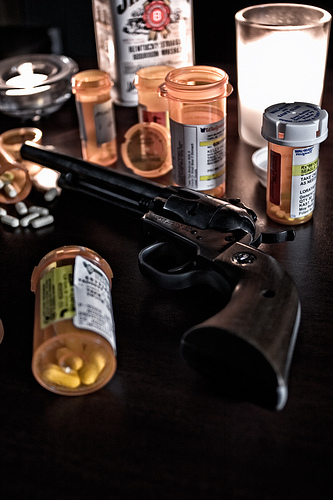pill bottle: (30, 243, 119, 398), (165, 64, 236, 196), (262, 101, 329, 227), (70, 68, 119, 166)
